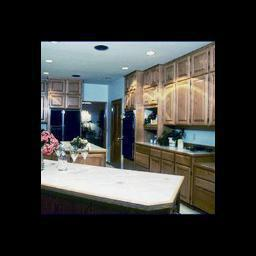Electrodomestico: (120, 110, 136, 159)
Puerta: (112, 101, 122, 166)
